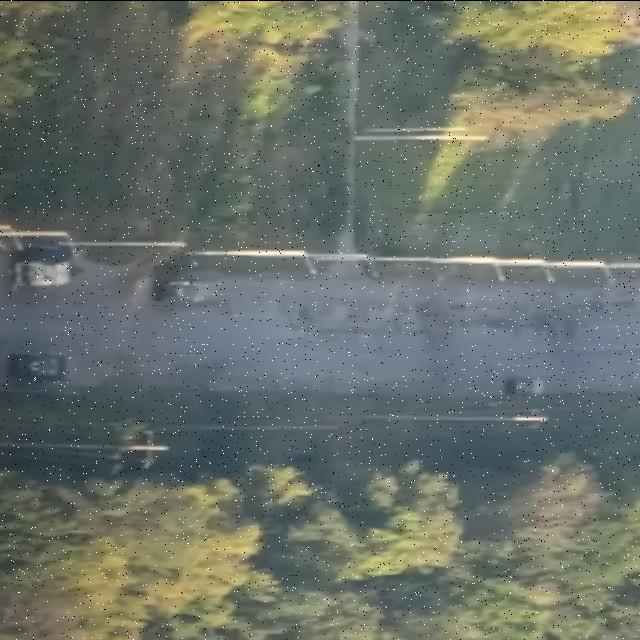CAR: (156, 272, 227, 304), (8, 350, 82, 380), (504, 374, 554, 394)
TRUCK: (11, 246, 93, 288)
